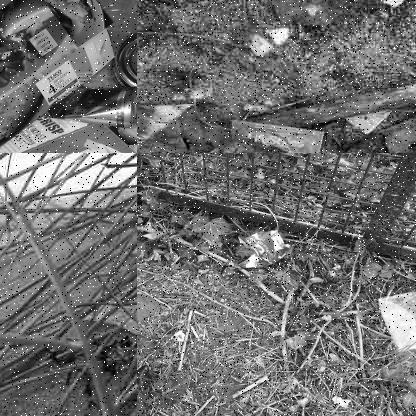metal: (62, 84, 136, 126)
plastic: (0, 0, 113, 122), (85, 284, 136, 369), (233, 118, 325, 152), (231, 229, 292, 267), (382, 286, 415, 354)
